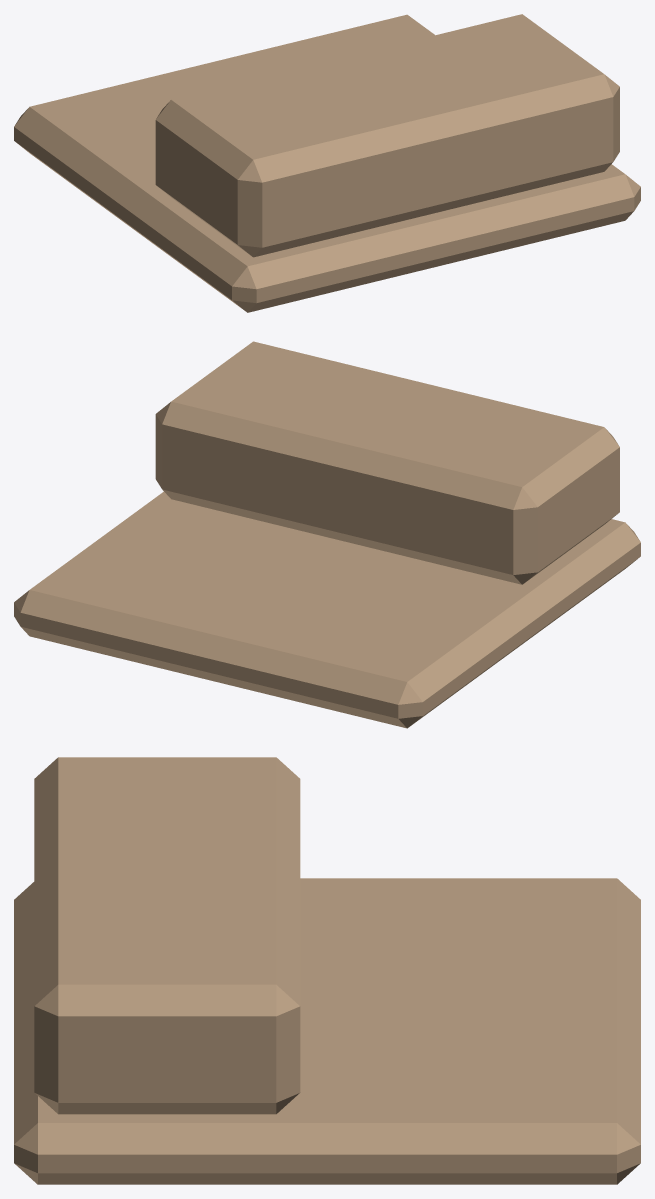
File: craft_dual_Edge.glb
The picture shows the model from 3 angles, top to bottom: view 1: azimuth 30°, elevation 25°; view 2: azimuth 150°, elevation 25°; view 3: azimuth 270°, elevation 25°; orthographic projection. The views are drawn at different scales.
Visible parts, largest first — view 1: Edge; view 2: Edge; view 3: Edge.
Boxes of the visible parts, <box> form: Edge: <box>14,14,640,312</box>; Edge: <box>14,341,640,728</box>; Edge: <box>14,757,640,1184</box>.
Bounding box in the file's own units: 0.92 × 0.31 × 0.92.
